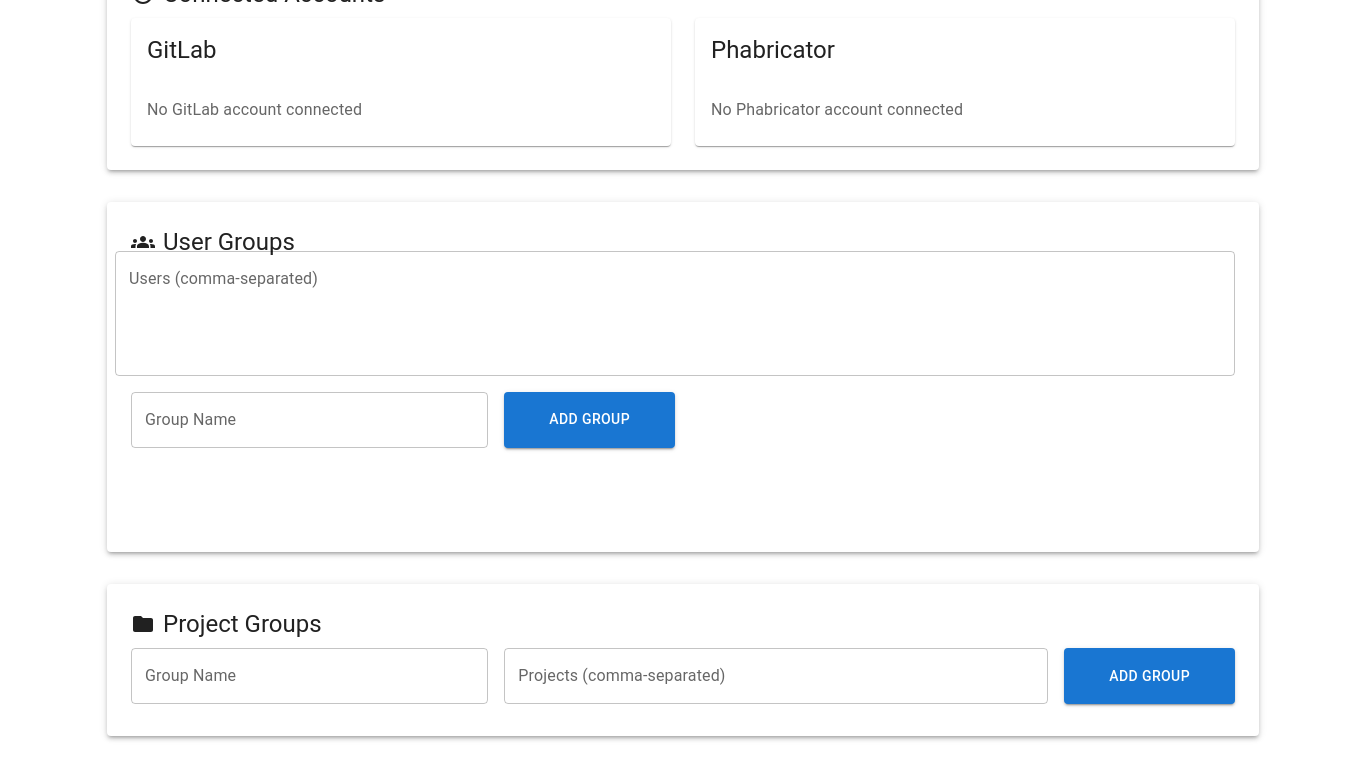
Scenario: AccountDetails Component › should allow adding a new project group
The image size is (1366, 768).
(page scrolled)
Type "Test Projects" into the field labelled "Group Name" in the row of "Projects (comma-separated)".
click(310, 676); type("Test Projects")  # box 131,648 -> 488,704
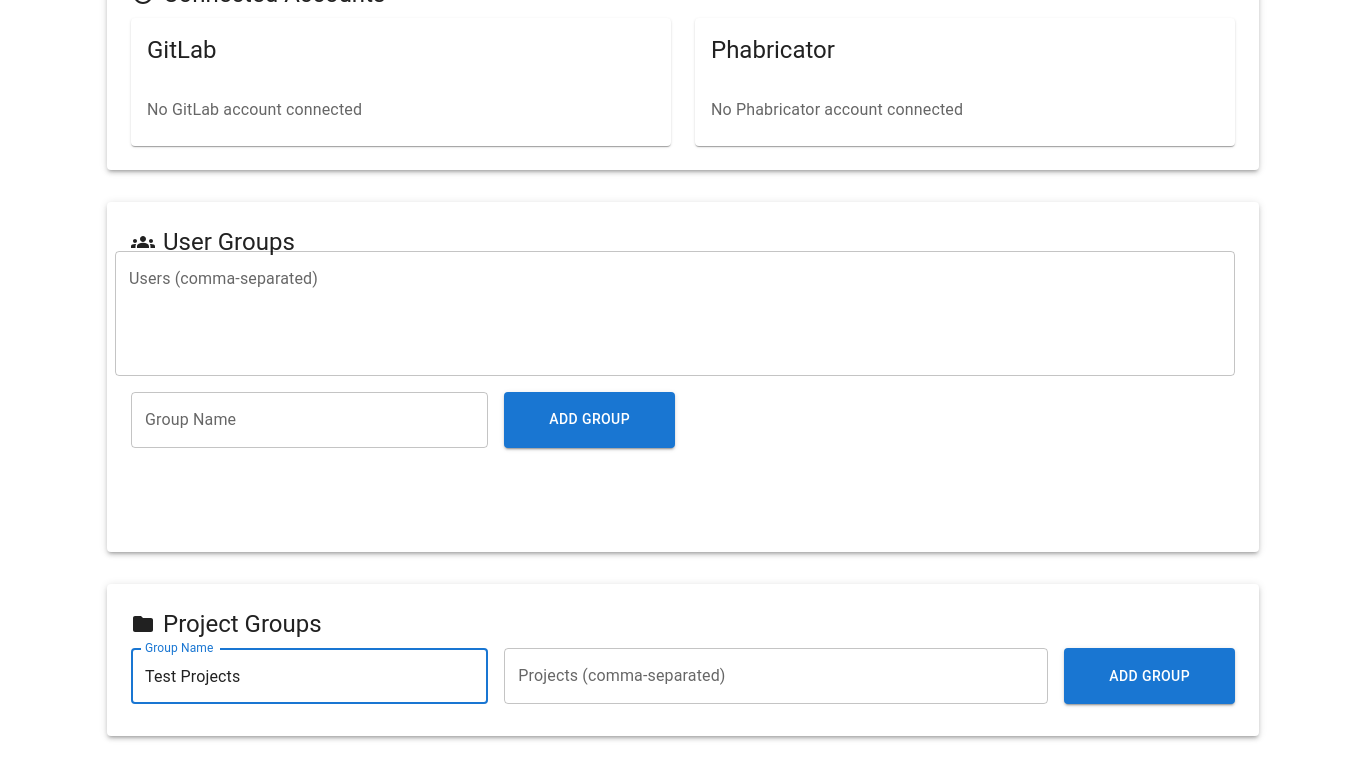
Type "projA, projB" into the field labelled "Projects (comma-separated)".
click(776, 676); type("projA, projB")  # box 504,648 -> 1048,704
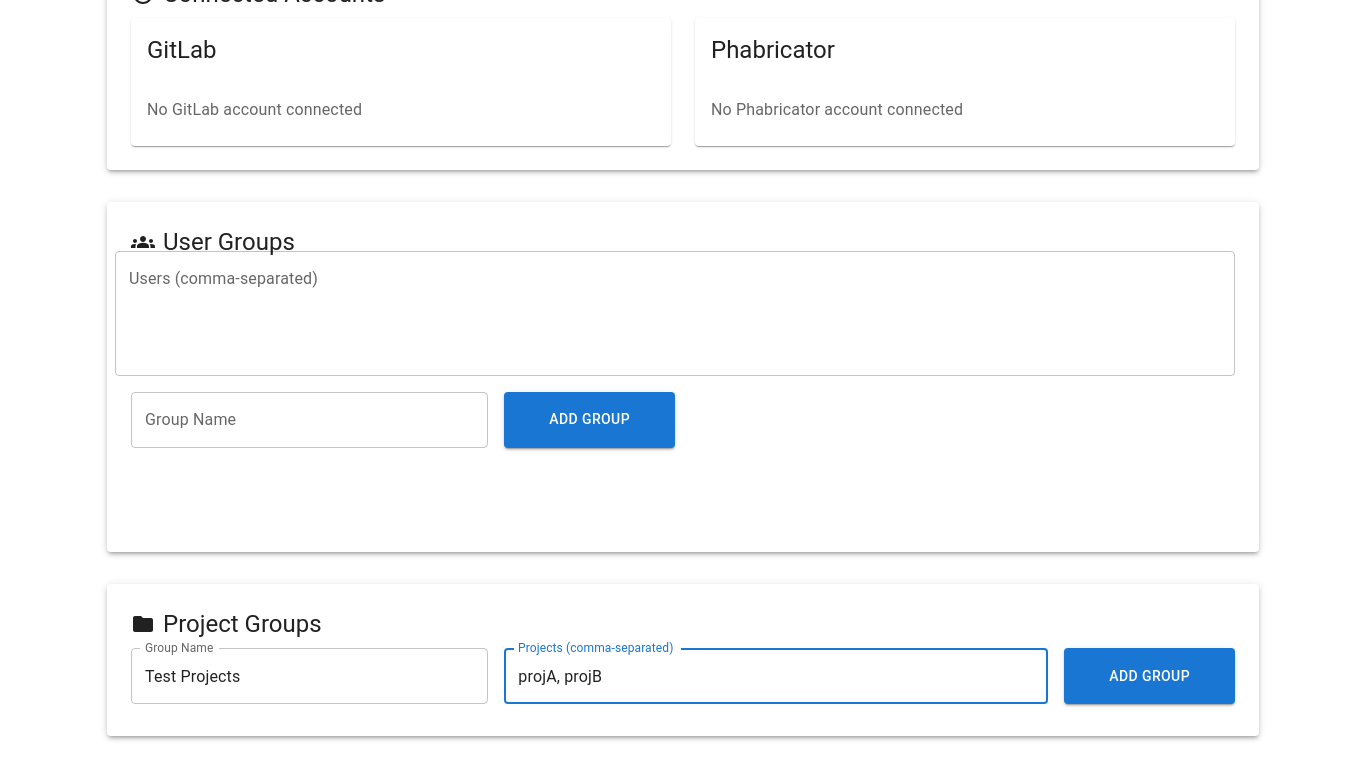
Click the button "Add Group" in the row of "Projects (comma-separated)".
click(1150, 676)  # box 1064,648 -> 1235,704
(page scrolled)
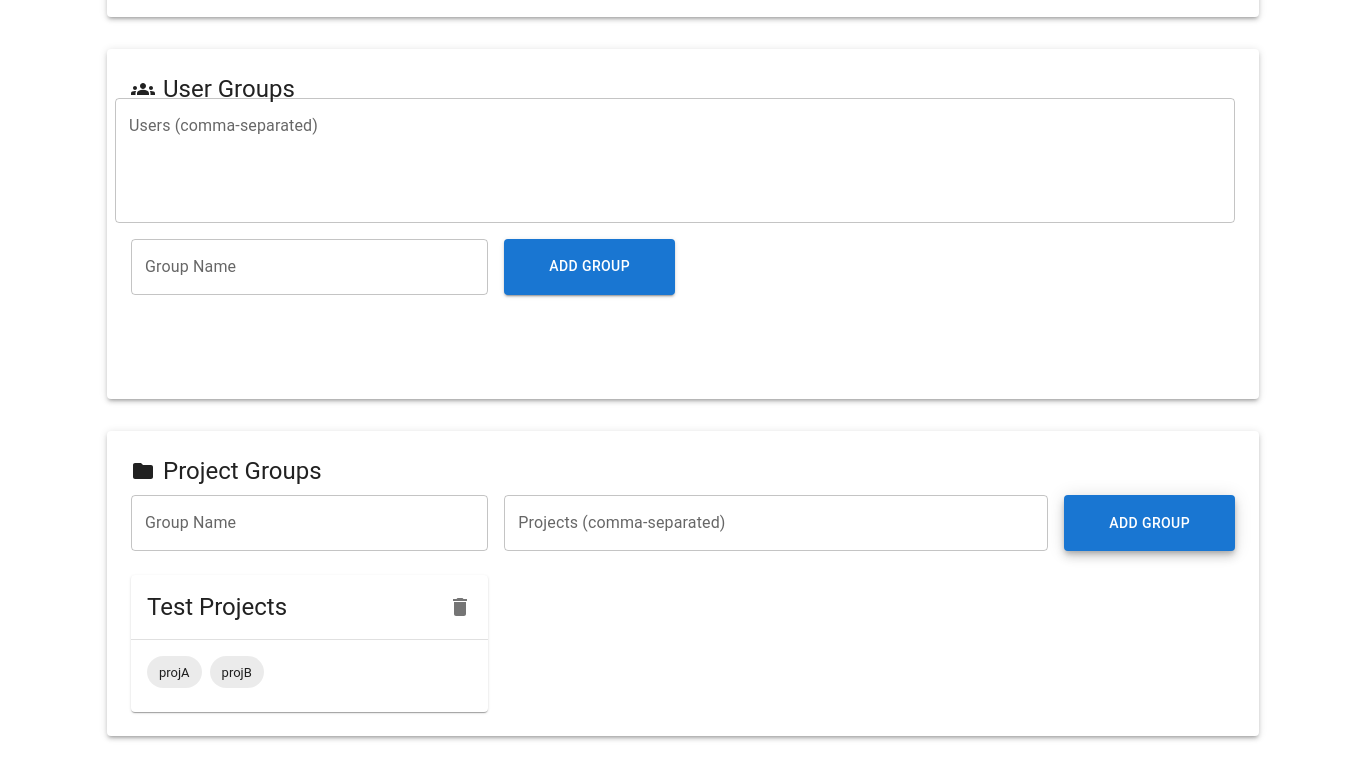
expect the text "Test Projects" is shown: met, box 147,593 -> 287,621
